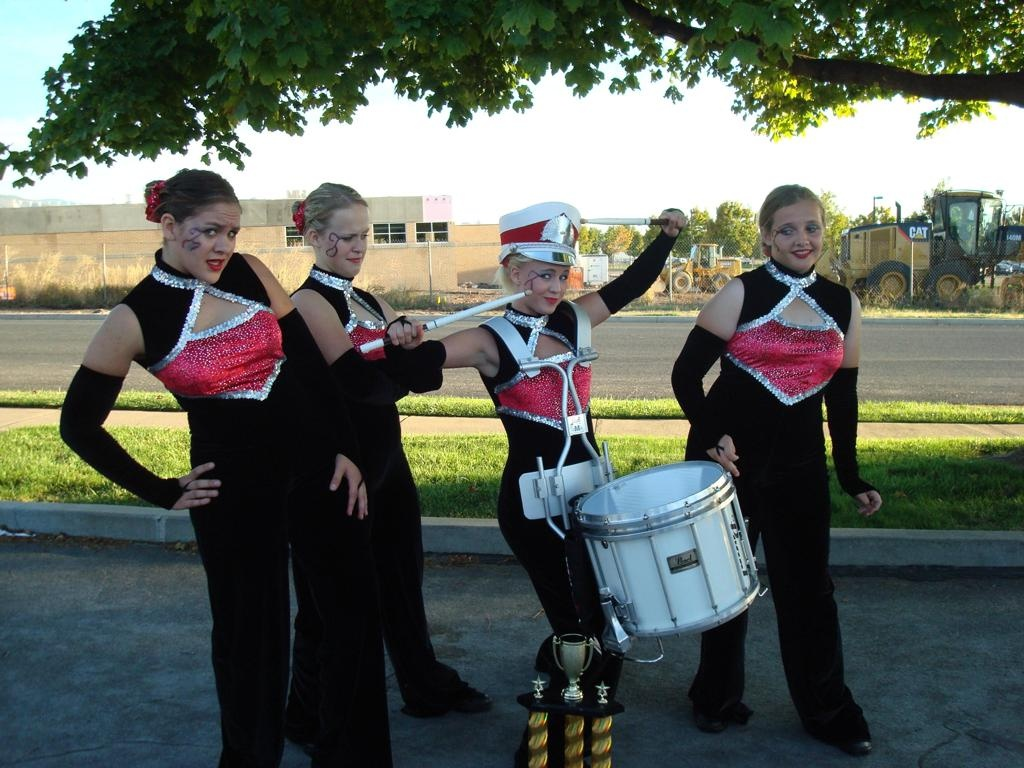human_face: (175, 203, 241, 283), (772, 202, 824, 268), (318, 206, 368, 274), (515, 252, 571, 312)
